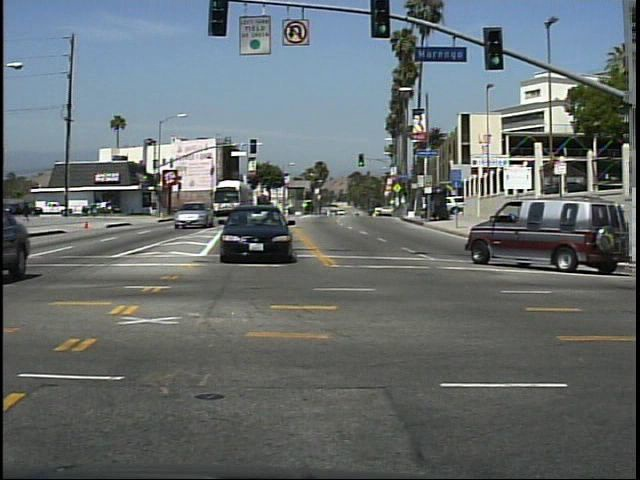person: (19, 195, 35, 226)
